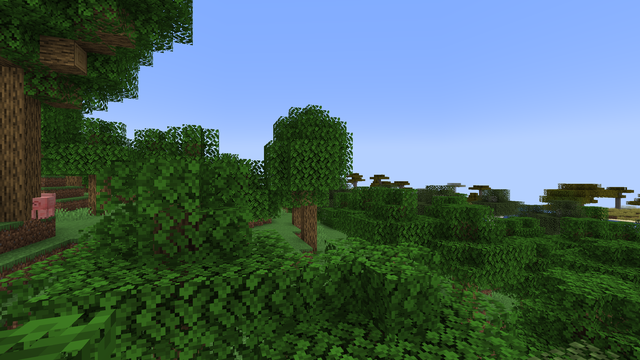cochons: (33, 195, 60, 218)
